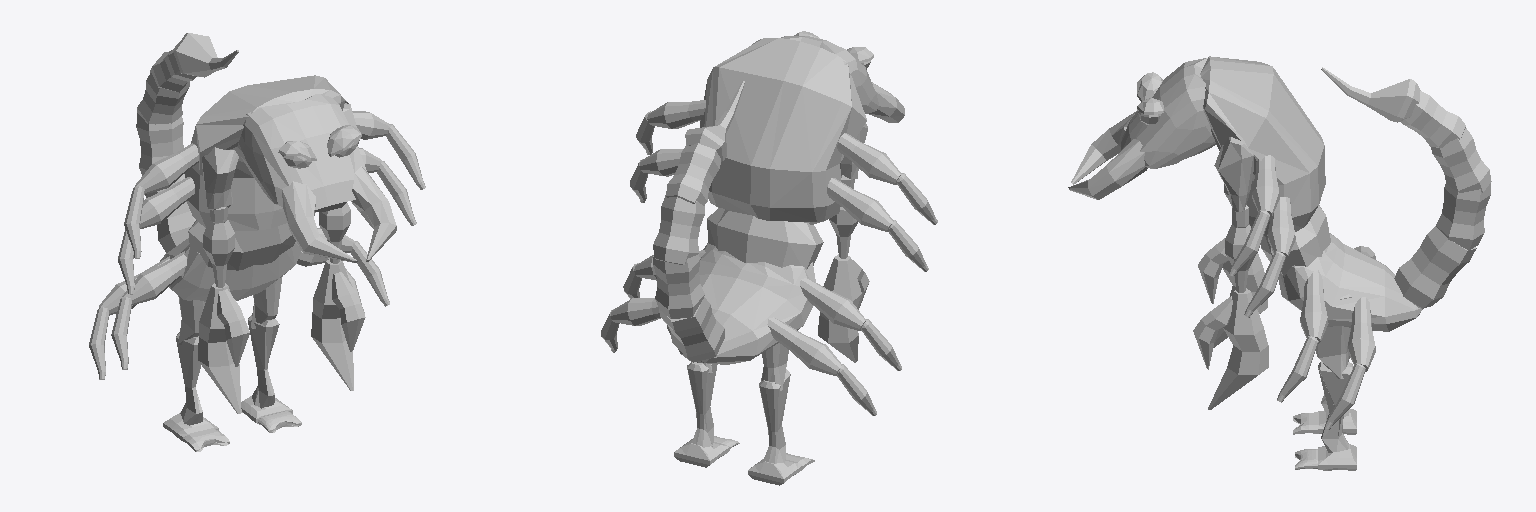
Rendered from scorpion pas animation.obj.
3 renders of one model, left to right at view 1: azimuth 30°, elevation 25°; view 2: azimuth 150°, elevation 25°; view 3: azimuth 270°, elevation 25°, orthographic.
Parts seen in each view (by area): view 1: Head, Uppper_Bac, Pelvis, L_Hand, R_Hand, Lower_Back, R_Jaw, L_Jaw, R_Upper_Ar, Cylinder03, Cylinder09, R_Forearm (+27 smaller); view 2: Uppper_Bac, Pelvis, Lower_Back, Cylinder05, Cylinder03, Cylinder01, R_Hand, Cylinder07, Cylinder33, R_Knee, L_Knee, Cylinder30 (+16 smaller); view 3: Uppper_Bac, Pelvis, Head, Cylinder01, L_Hand, Cylinder03, Cylinder05, Cylinder09, L_Jaw, L_Upper_Ar, Cylinder07, Lower_Back (+16 smaller).
Boxes of the visible parts, x1=… form: Head: x1=237, y1=94, x2=367, y2=211; Uppper_Bac: x1=185, y1=75, x2=348, y2=230; Pelvis: x1=160, y1=238, x2=301, y2=301; L_Hand: x1=311, y1=259, x2=353, y2=390; R_Hand: x1=198, y1=283, x2=241, y2=413; Lower_Back: x1=188, y1=220, x2=295, y2=270; R_Jaw: x1=282, y1=181, x2=357, y2=262; L_Jaw: x1=351, y1=166, x2=396, y2=261; R_Upper_Ar: x1=202, y1=147, x2=238, y2=210; Cylinder03: x1=136, y1=113, x2=183, y2=175; Cylinder09: x1=173, y1=33, x2=238, y2=77; R_Forearm: x1=203, y1=207, x2=234, y2=287; Uppper_Bac: x1=700, y1=38, x2=866, y2=224; Pelvis: x1=667, y1=243, x2=815, y2=364; Lower_Back: x1=707, y1=208, x2=823, y2=269; Cylinder05: x1=653, y1=195, x2=704, y2=264; Cylinder03: x1=653, y1=254, x2=704, y2=318; Cylinder01: x1=659, y1=297, x2=724, y2=362; R_Hand: x1=818, y1=254, x2=861, y2=362; Cylinder07: x1=666, y1=143, x2=720, y2=205; Cylinder33: x1=767, y1=317, x2=841, y2=375; R_Knee: x1=759, y1=369, x2=790, y2=463; L_Knee: x1=687, y1=362, x2=717, y2=447; Cylinder30: x1=827, y1=178, x2=893, y2=231; Uppper_Bac: x1=1200, y1=56, x2=1325, y2=236; Pelvis: x1=1278, y1=233, x2=1422, y2=331; Head: x1=1121, y1=58, x2=1216, y2=168; Cylinder01: x1=1394, y1=226, x2=1476, y2=308; L_Hand: x1=1208, y1=288, x2=1268, y2=409; Cylinder03: x1=1436, y1=183, x2=1490, y2=250; Cylinder05: x1=1431, y1=128, x2=1491, y2=192; Cylinder09: x1=1321, y1=67, x2=1420, y2=122; L_Jaw: x1=1068, y1=139, x2=1147, y2=199; L_Upper_Ar: x1=1214, y1=137, x2=1254, y2=211; Cylinder07: x1=1401, y1=91, x2=1465, y2=147; Lower_Back: x1=1261, y1=205, x2=1330, y2=276.
Size of the model in its own units: 1274 by 1593 by 1606.